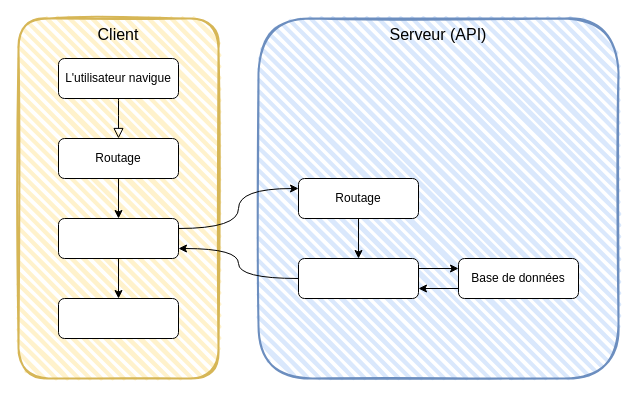
Some shapes in this 636 by 396 pixel diagram are drawn without their labels. Each missing label, with the box of its shape:
Chargement des données: (58, 218, 178, 258)
Contrôleur: (298, 258, 418, 298)
Rendu (composants): (58, 298, 178, 338)
